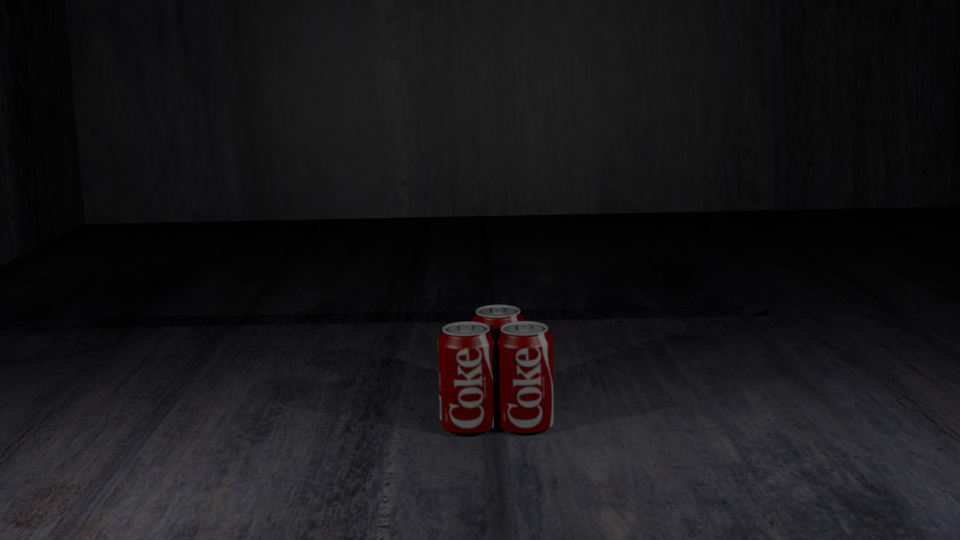cola_can: (438, 322, 495, 430), (496, 321, 552, 429), (471, 305, 524, 408)
